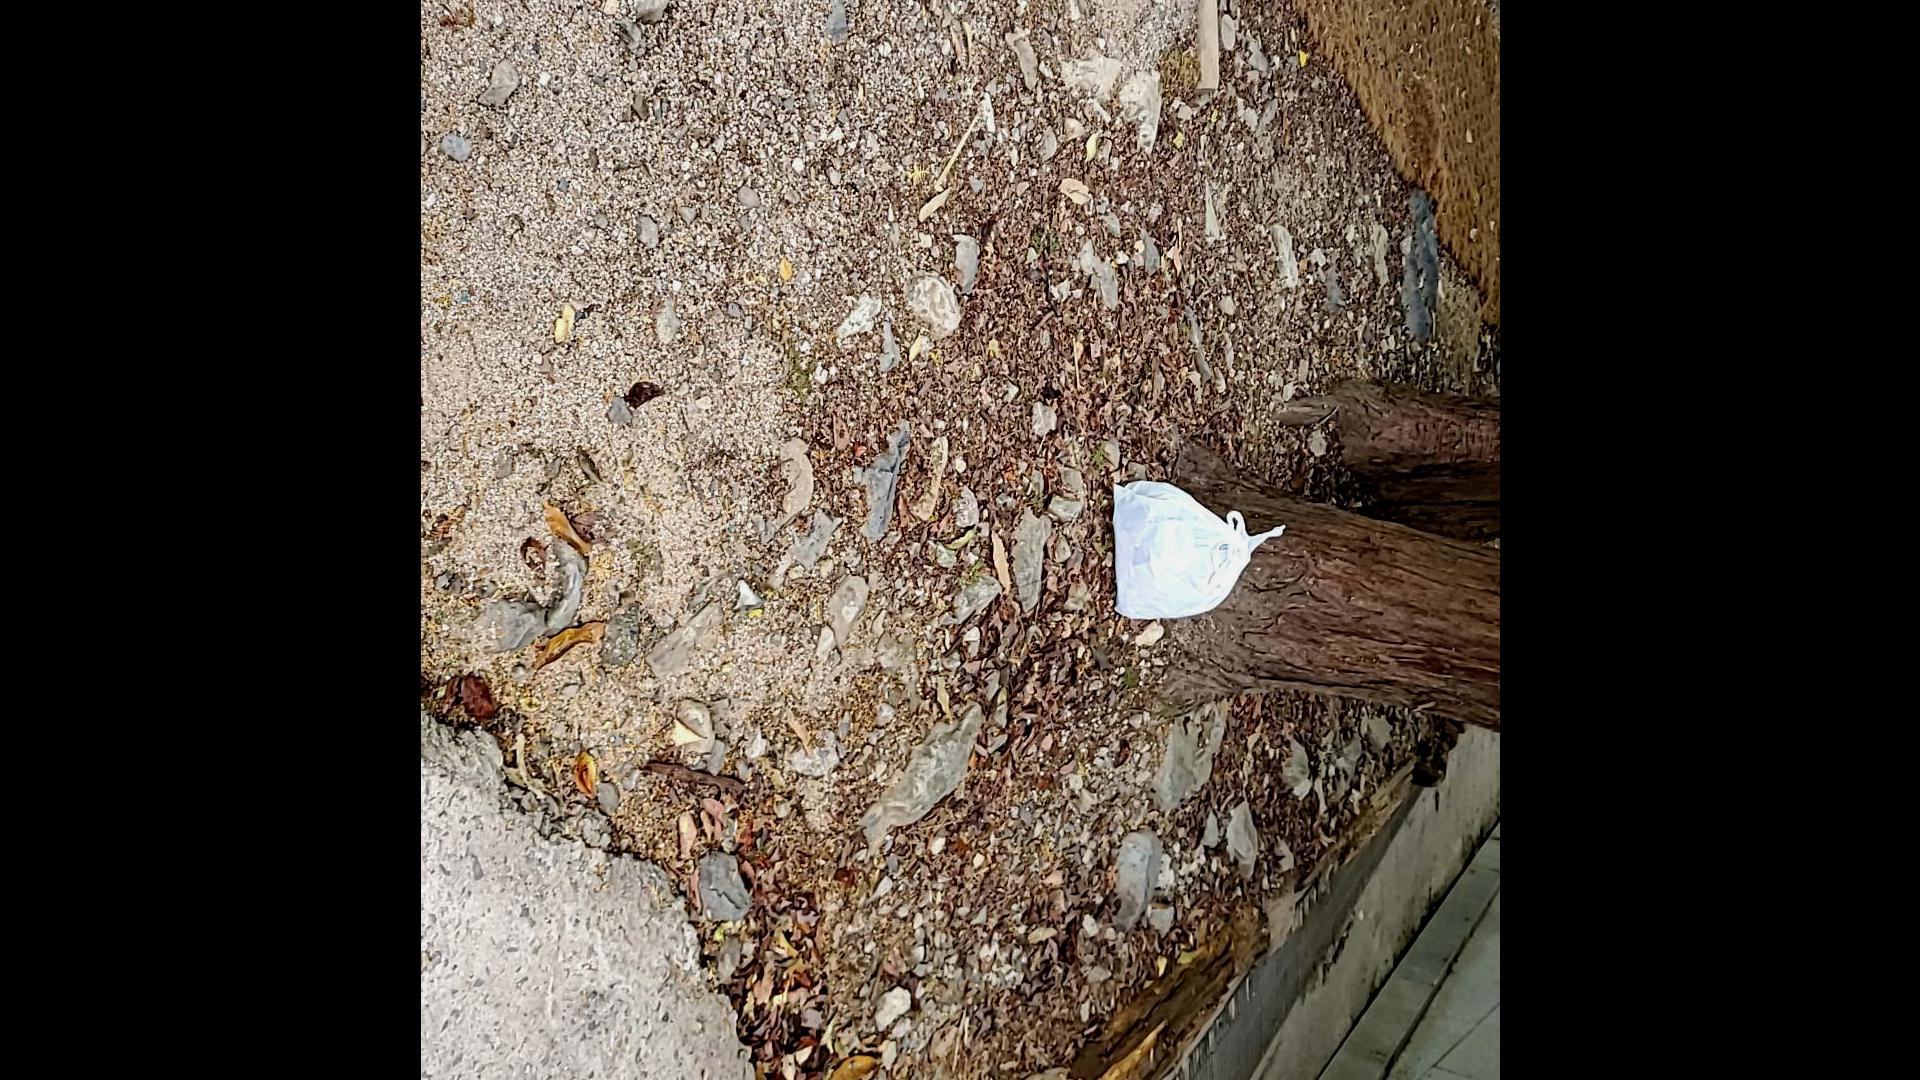white_bag: (1095, 459, 1287, 638)
